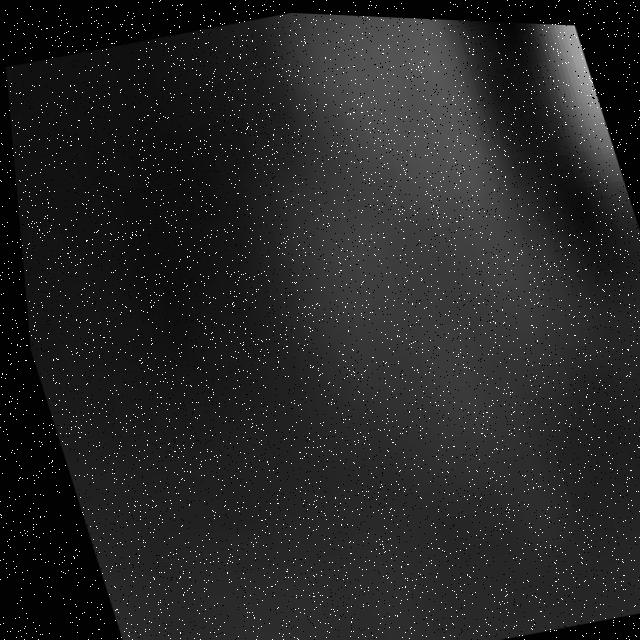person: (244, 9, 595, 512), (518, 19, 640, 269)
